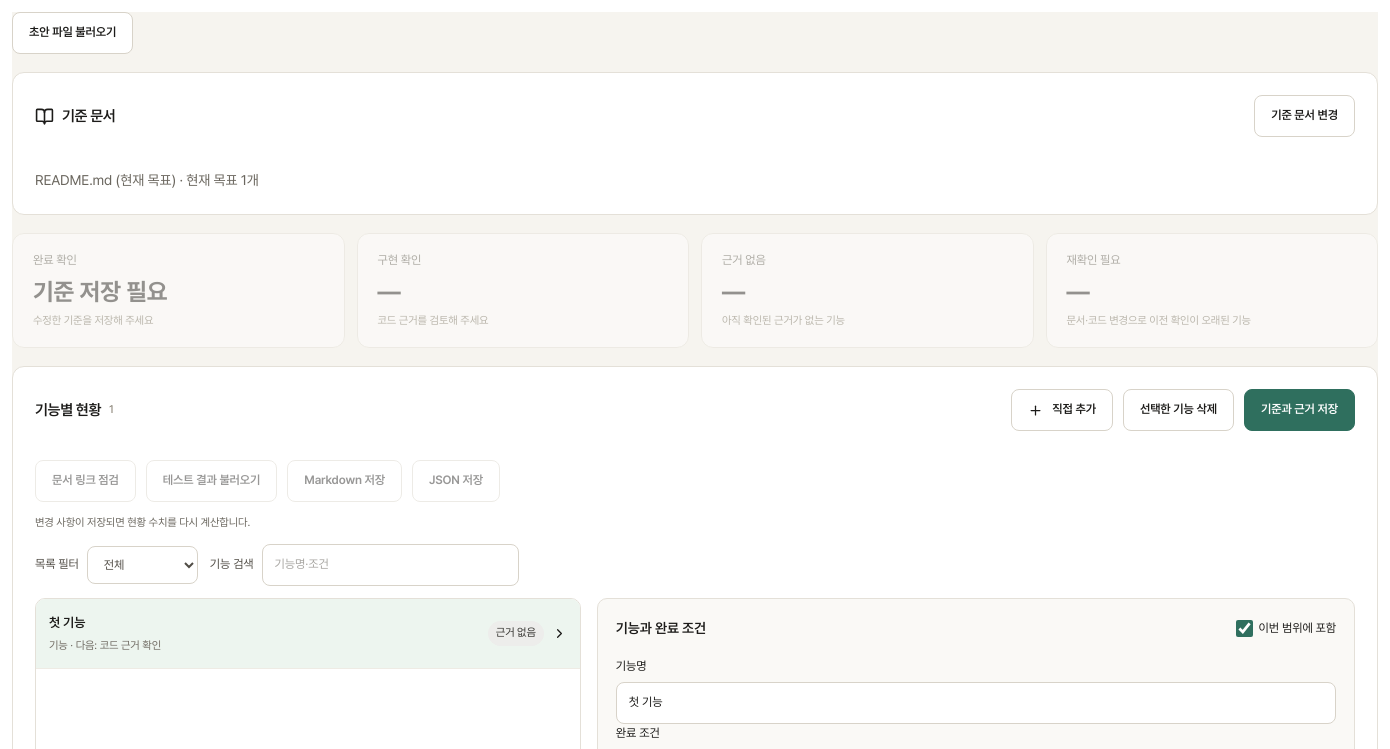
Test: does not carry an evidence candidate into another item selected by a filter
Step 1. Select "제외" in the dropdown labelled "목록 필터" → (142, 565), box [87, 546, 198, 584]
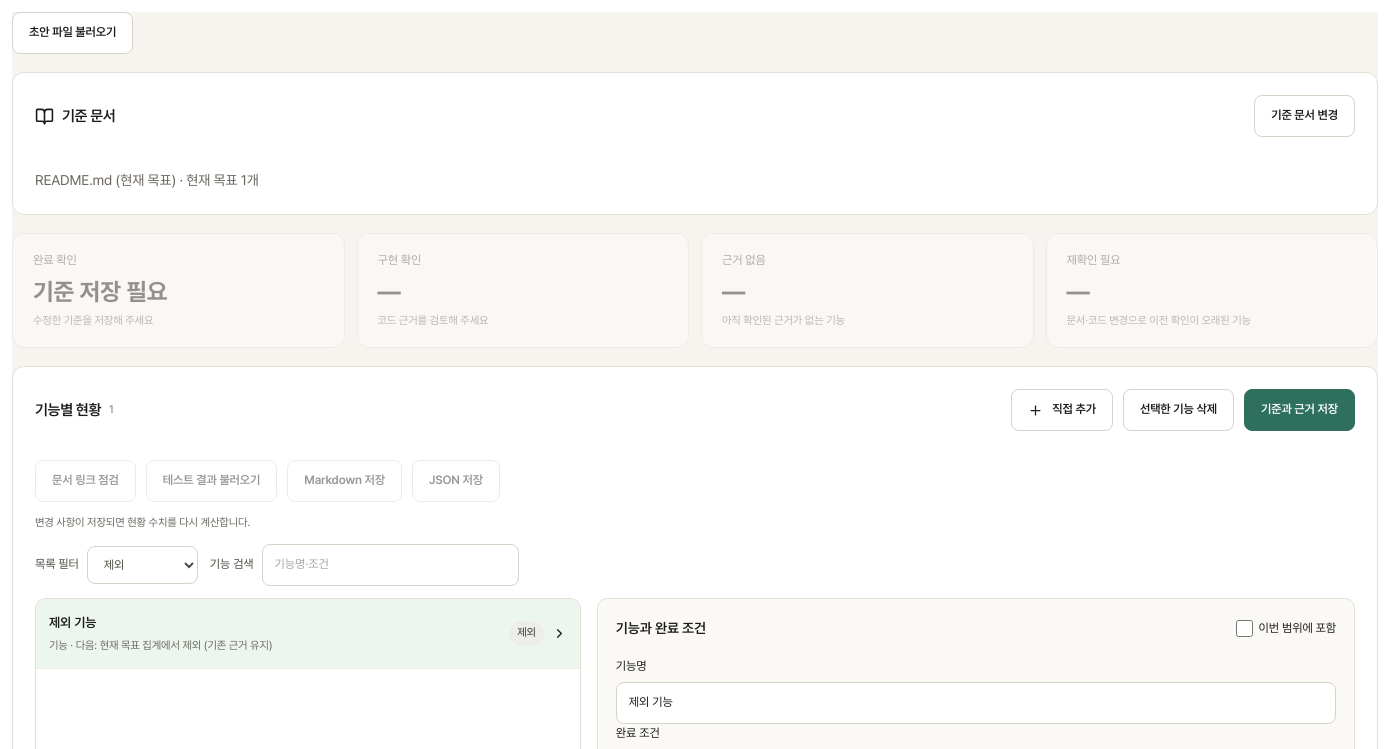
Result: the field labelled "기능명" holds "제외 기능" at [616, 682, 1336, 724]
